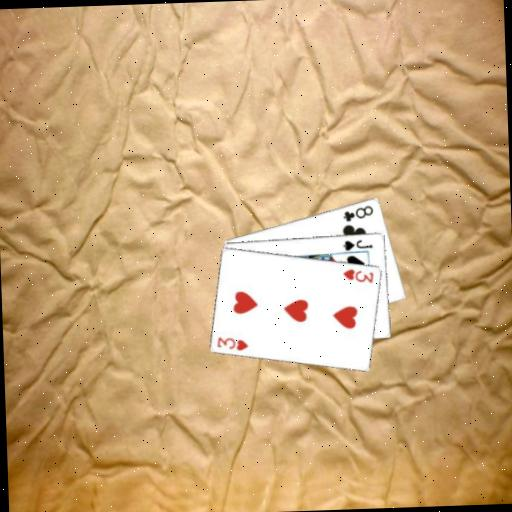3H: (339, 265, 375, 285), (214, 332, 250, 352)
8C: (340, 202, 375, 223)
JS: (339, 236, 373, 252)
